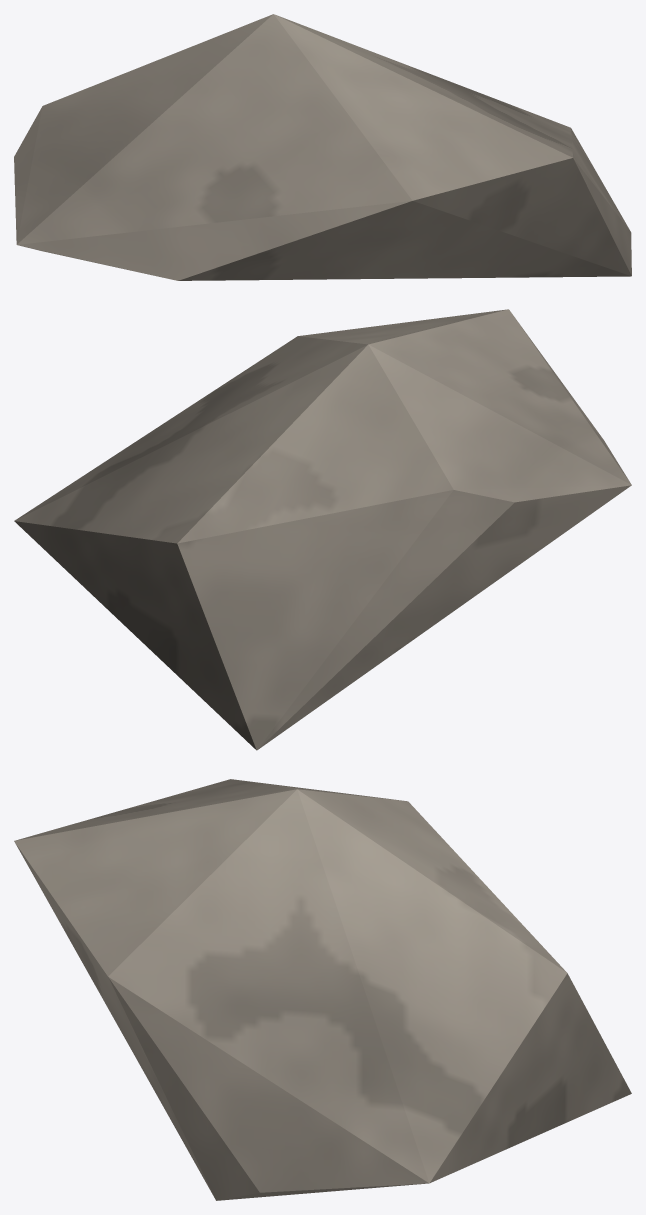
The model's file is rock_c.glb.
3 views of the same model, one above another, from view 1: azimuth 30°, elevation 25°; view 2: azimuth 150°, elevation 25°; view 3: azimuth 270°, elevation 25° (orthographic). The views are drawn at different scales.
Visible parts, largest first — view 1: RockC; view 2: RockC; view 3: RockC.
Part boxes in pixels (x1,y1,x2,y2): RockC: [14, 14, 631, 280]; RockC: [14, 309, 631, 750]; RockC: [14, 779, 631, 1200].
Size of the model in its own units: 0.4328 by 0.2251 by 0.3881.
Materials: 1 (1 with a texture image).
